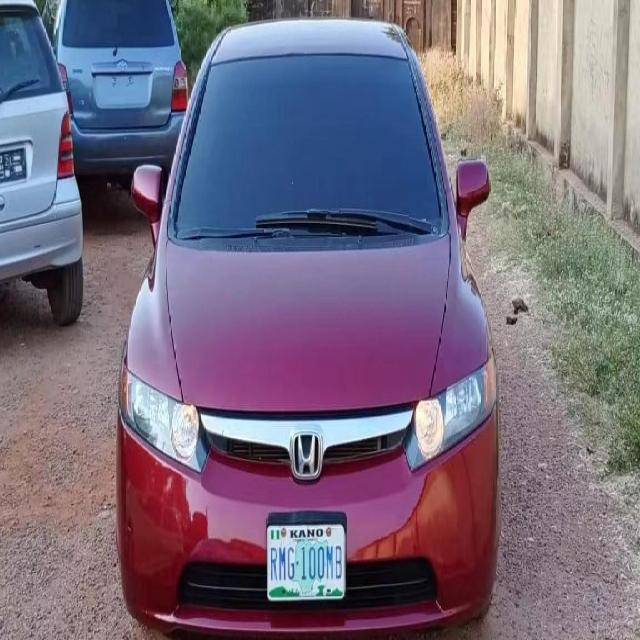Nigerian License Plate - vdataset benjamin-daria: (267, 522, 346, 602)
